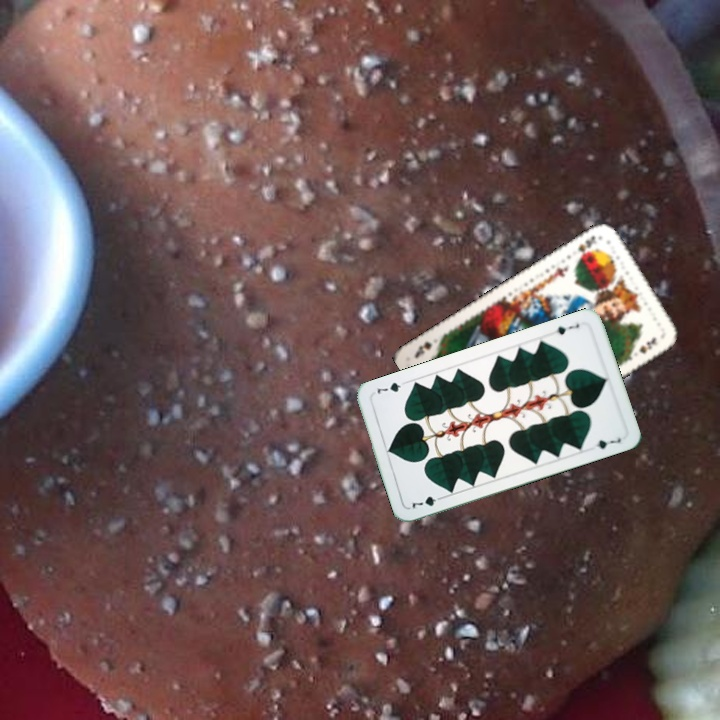G7: (408, 492, 446, 511), (552, 319, 582, 338)
SK: (571, 232, 598, 263)
